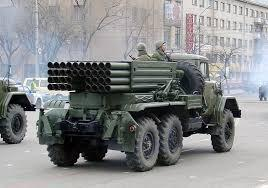MIL_SAM_TEL: (39, 53, 239, 171)
